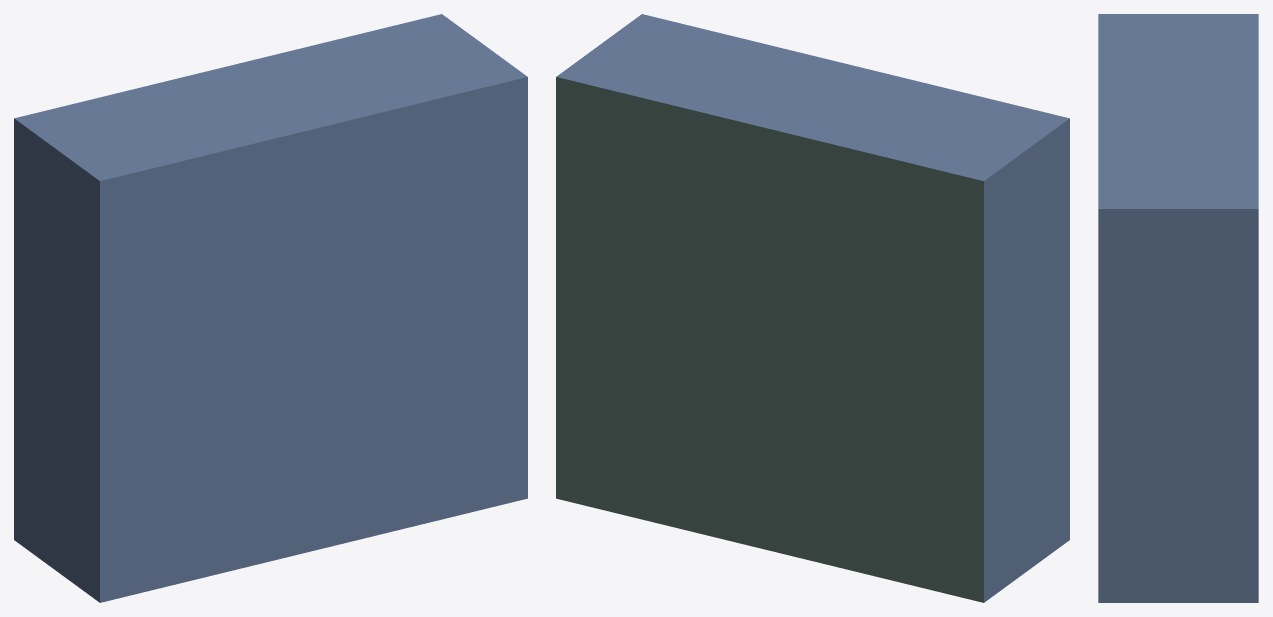
Rendered from icub_l_hand.dae.
3 renders of one model, left to right at view 1: azimuth 30°, elevation 25°; view 2: azimuth 150°, elevation 25°; view 3: azimuth 270°, elevation 25°, orthographic. The views are drawn at different scales.
Visible parts, largest first — view 1: l_hand_mesh; view 2: l_hand_mesh; view 3: l_hand_mesh.
Boxes of the visible parts, x1=… form: l_hand_mesh: x1=14, y1=14, x2=527, y2=602; l_hand_mesh: x1=556, y1=14, x2=1069, y2=602; l_hand_mesh: x1=1098, y1=14, x2=1258, y2=602.
Bounding box in the file's own units: 0.069 × 0.065 × 0.024.
